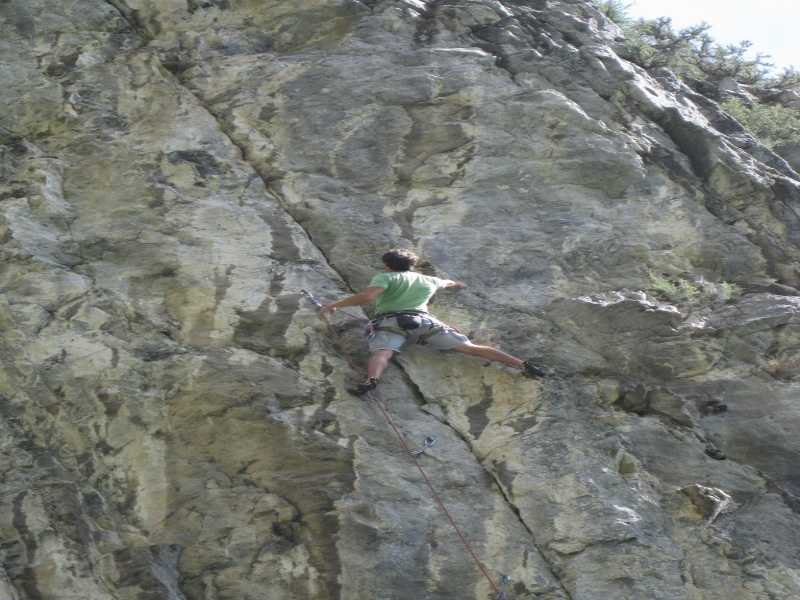person: (324, 239, 551, 434)
